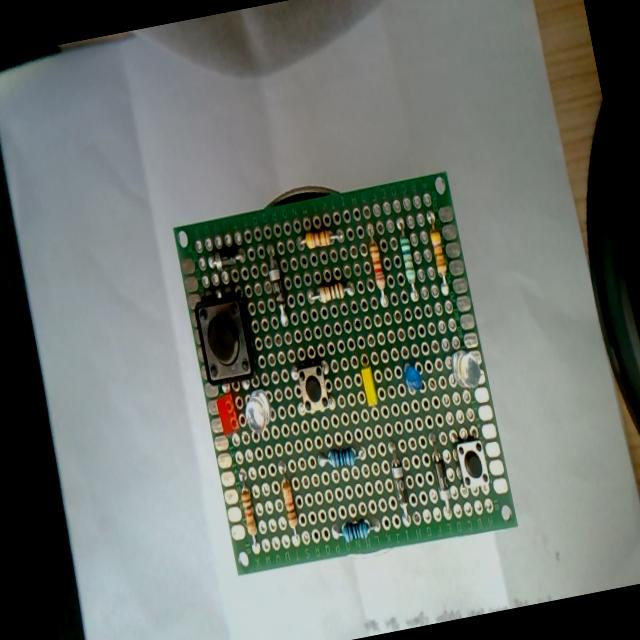diode: (380, 432, 414, 534), (422, 422, 455, 522), (260, 242, 292, 331), (201, 237, 252, 274)
led: (208, 381, 250, 448), (438, 339, 483, 392), (240, 384, 278, 442), (354, 358, 383, 414), (394, 356, 426, 401)
resistor: (356, 214, 393, 318), (419, 202, 456, 306), (388, 210, 423, 318), (230, 468, 268, 556), (283, 215, 350, 263), (327, 506, 390, 551), (308, 439, 366, 482), (271, 472, 304, 546), (298, 274, 359, 314)
switch: (191, 287, 260, 386), (293, 361, 333, 419), (454, 437, 491, 494)
